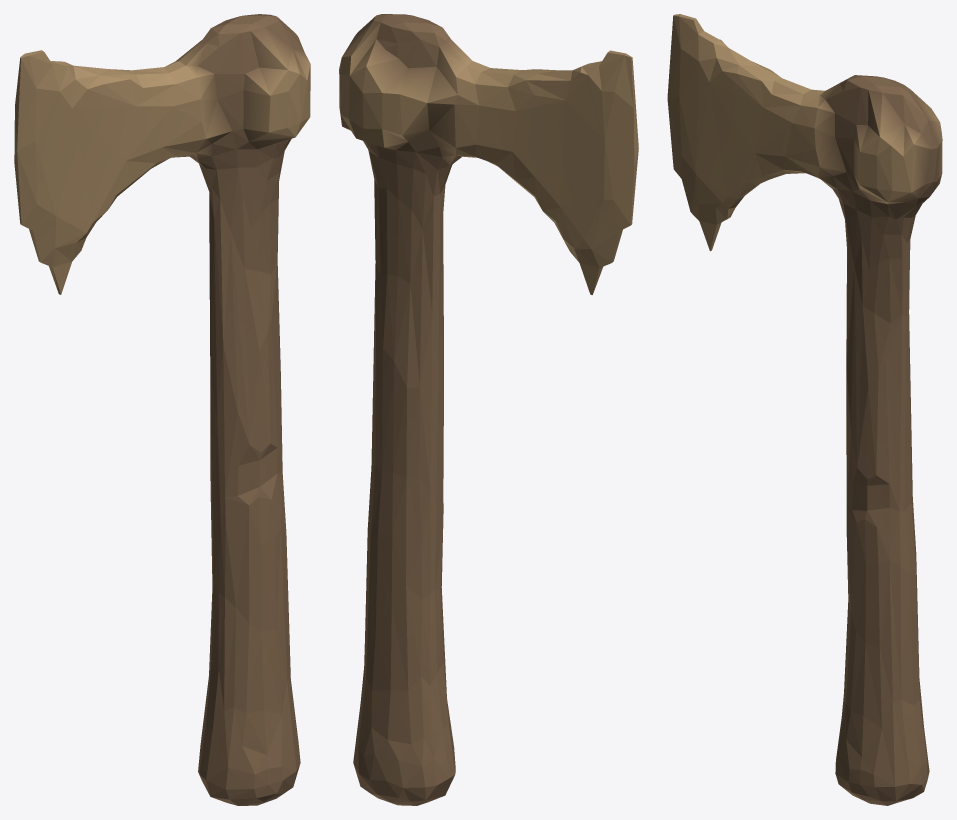
The model's file is axe_bronze.glb.
The picture shows the model from 3 angles, left to right: view 1: azimuth 30°, elevation 25°; view 2: azimuth 150°, elevation 25°; view 3: azimuth 330°, elevation 25°; orthographic projection. The views are drawn at different scales.
Parts seen in each view (by area): view 1: world; view 2: world; view 3: world.
Boxes of the visible parts, x1,y1,x2,y2 form: world: (14,14,310,805); world: (339,14,638,805); world: (667,14,942,805).
Size of the model in its own units: 0.382 by 1 by 0.1096.
